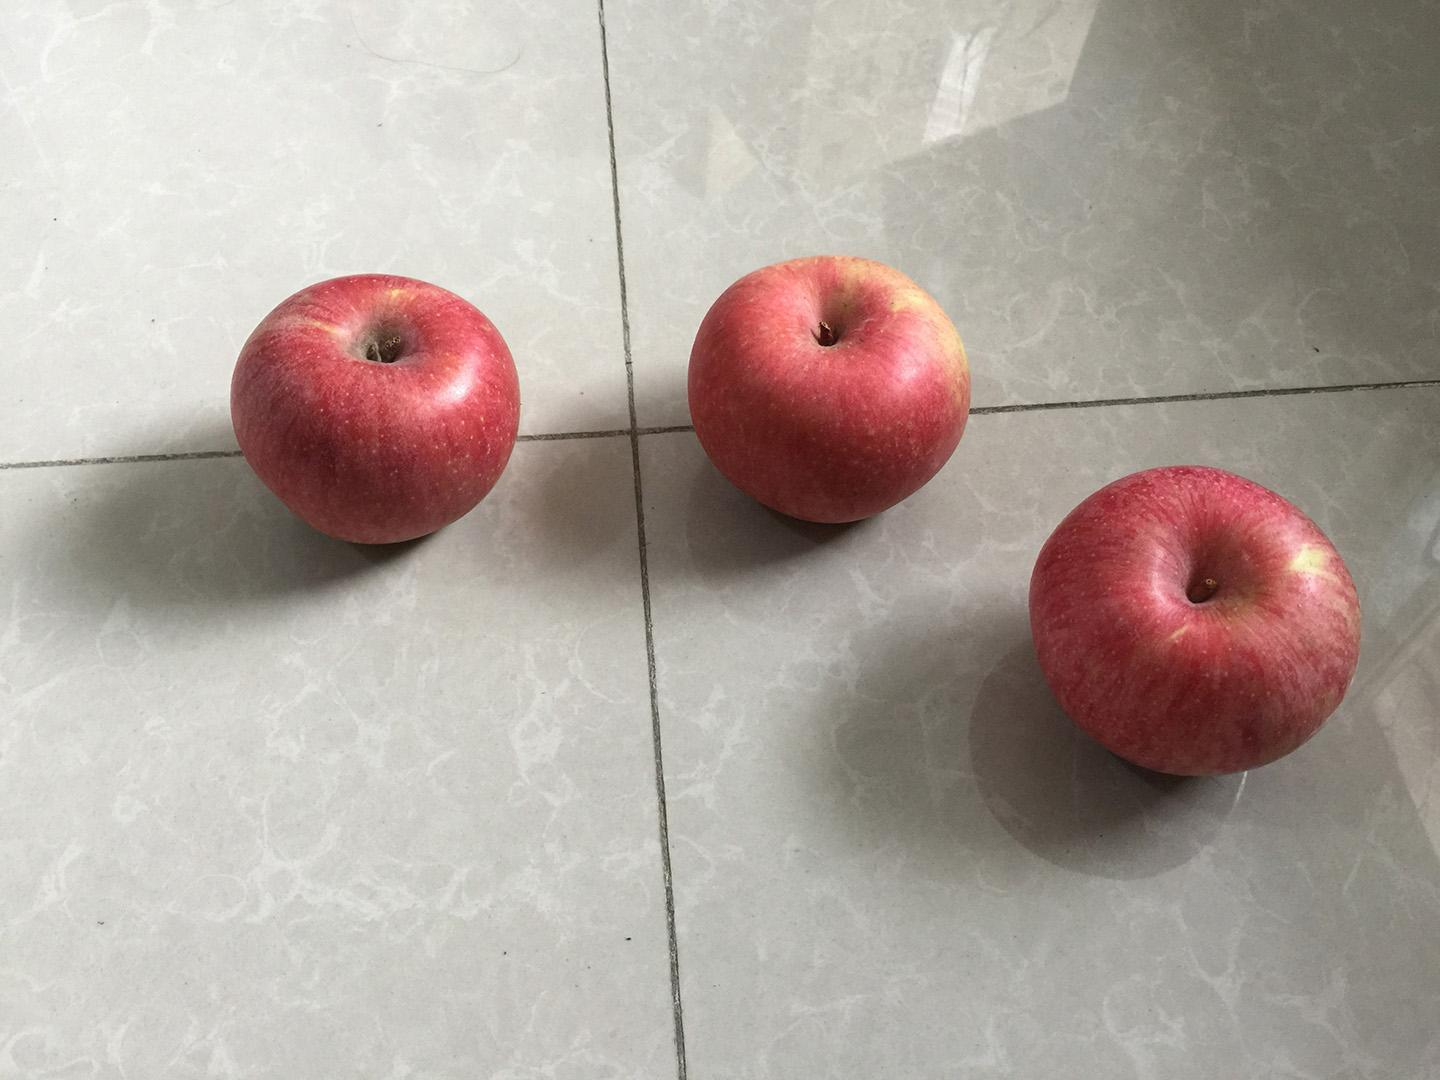apple: (1015, 452, 1383, 787), (222, 265, 535, 554), (677, 247, 986, 535)
